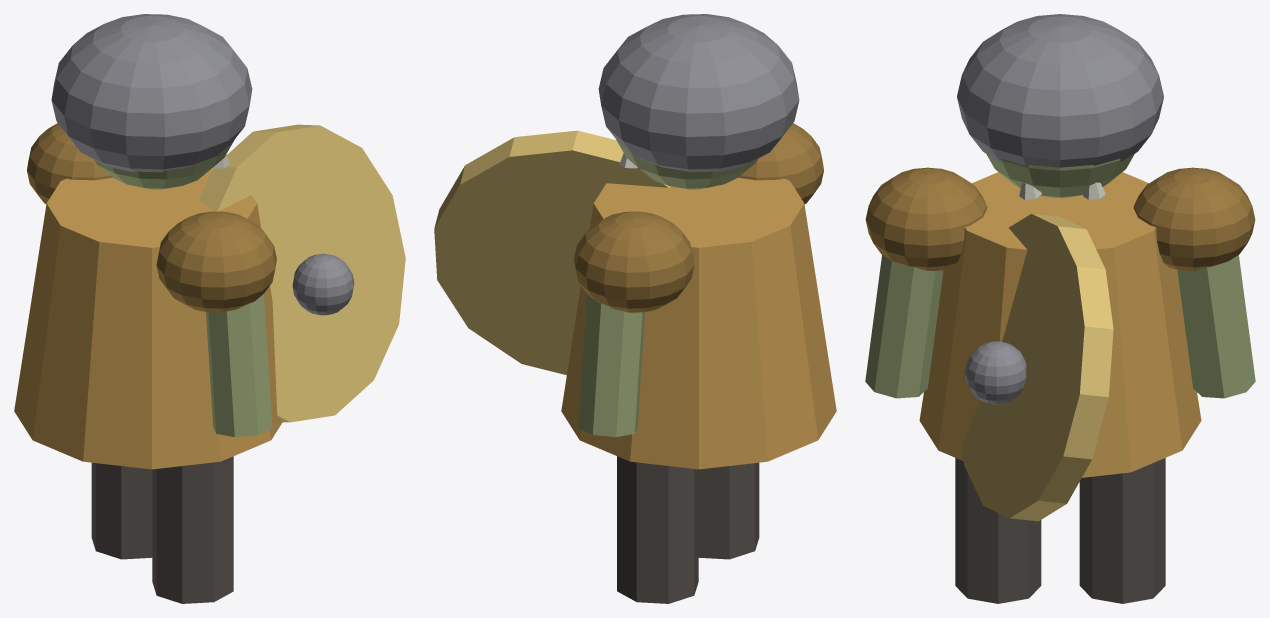
Rendered from hero_durgar_1.glb.
3 renders of one model, left to right at view 1: azimuth 30°, elevation 25°; view 2: azimuth 150°, elevation 25°; view 3: azimuth 270°, elevation 25°, orthographic. The views are drawn at different scales.
Parts seen in each view (by area): view 1: figurka; view 2: figurka; view 3: figurka.
Boxes of the visible parts, <box> form: figurka: <box>14,14,405,603</box>; figurka: <box>434,14,836,603</box>; figurka: <box>865,14,1255,603</box>.
Size of the model in its own units: 0.6939 by 0.9584 by 0.6121.
